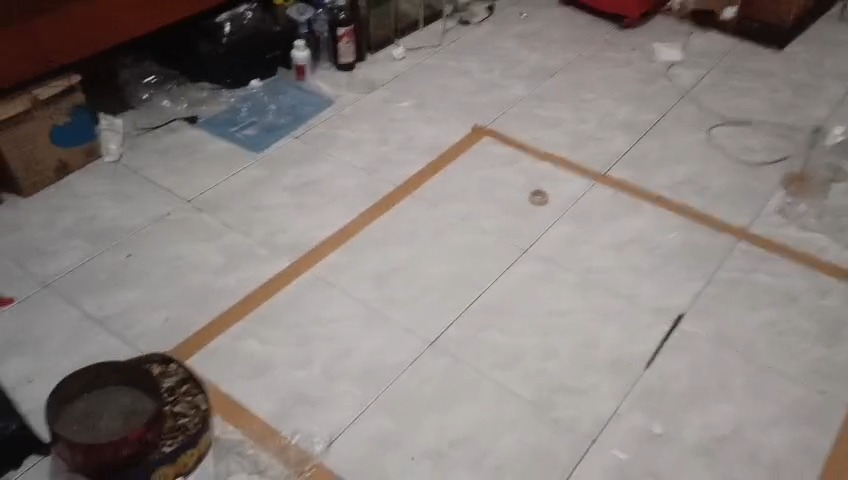floor marking: (171, 125, 847, 361), (206, 380, 337, 479)
